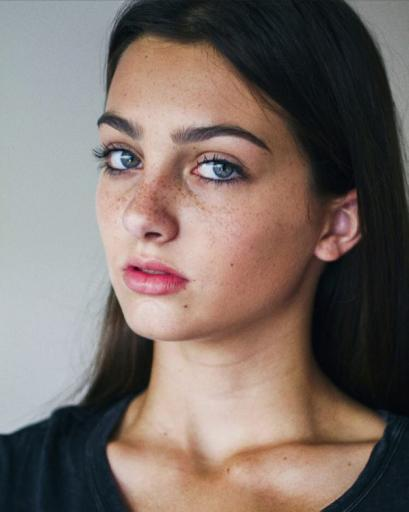left_eye: (191, 153, 254, 188)
left_lip_corner: (183, 272, 198, 292)
right_eye: (99, 147, 145, 179)
right_lip_corner: (122, 264, 136, 281)
